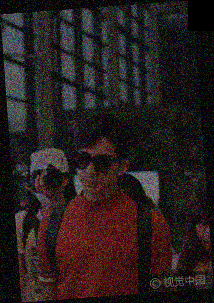without_mask: (76, 146, 120, 194), (196, 216, 210, 252)
